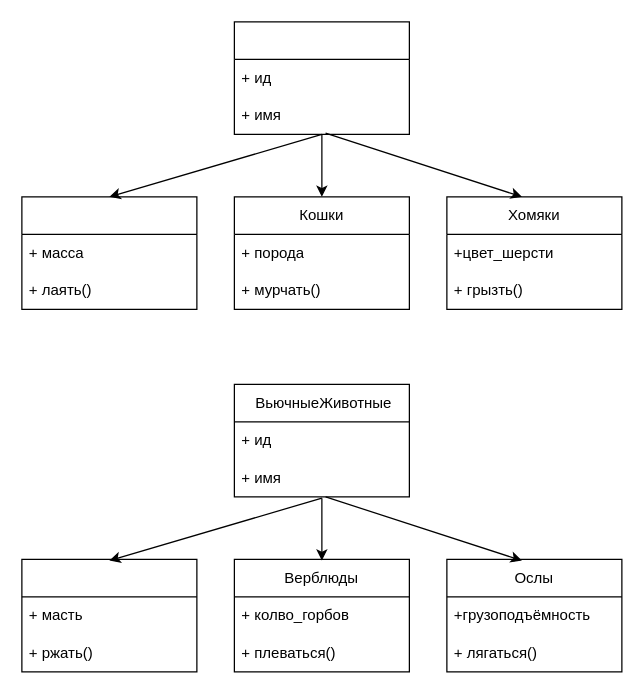
The diagram is 644 pixels wide and 694 high, and some of its shapes have lost their labels. The box of each missing label's shape, as (x1, y1, x2, y2) in pixels:
ДомашниеЖивотные: (233, 21, 409, 134)
Лошади: (21, 558, 197, 672)
Собаки: (21, 196, 197, 309)
